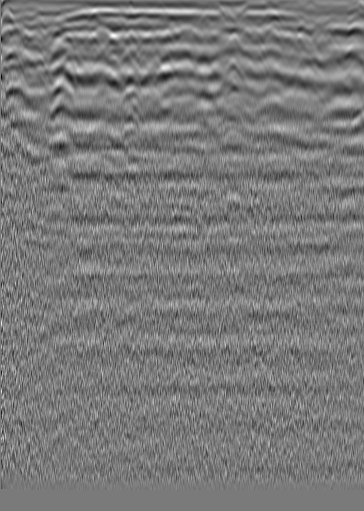가스: (212, 102, 257, 133)
상수: (296, 19, 316, 39)
오수: (18, 30, 38, 50)
우수: (159, 26, 179, 46)
